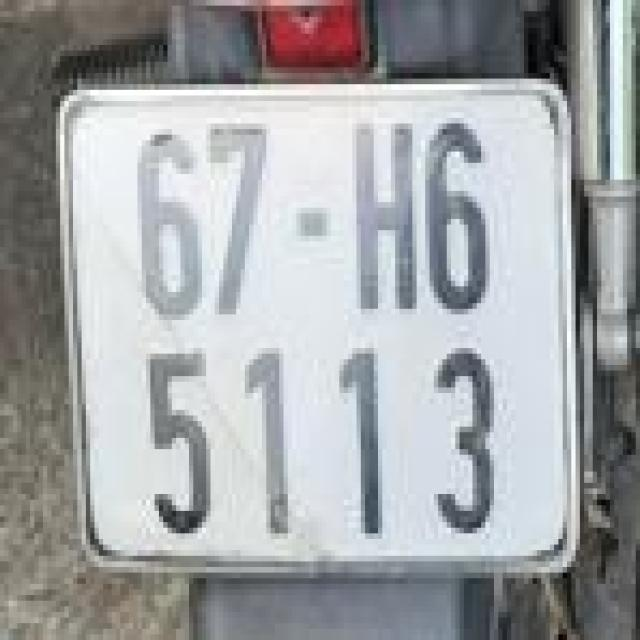1: (329, 328, 397, 553), (240, 337, 296, 550)
3: (421, 328, 511, 542)
5: (138, 326, 228, 550)
6: (131, 112, 213, 337), (423, 107, 496, 326)
7: (202, 104, 279, 311)
H: (341, 104, 419, 317)
